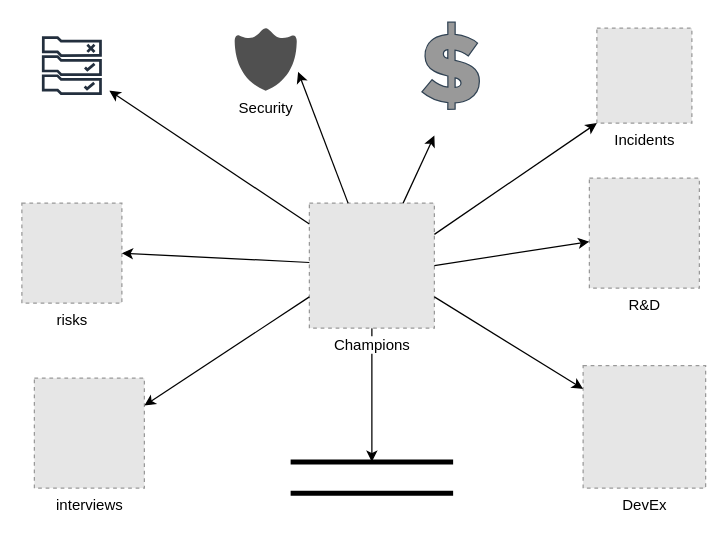
Some shapes in this 728 by 541 pixel diagram are drawn without their labels. Grey dashed boxes stand in for pictures. Here are the shapes that lost their labels. From the top down, the centre of each, then its label:
At (x=71, y=65): "Compliance".
At (x=450, y=65): "Cost".
At (x=371, y=477): "SLA/SLOs".
